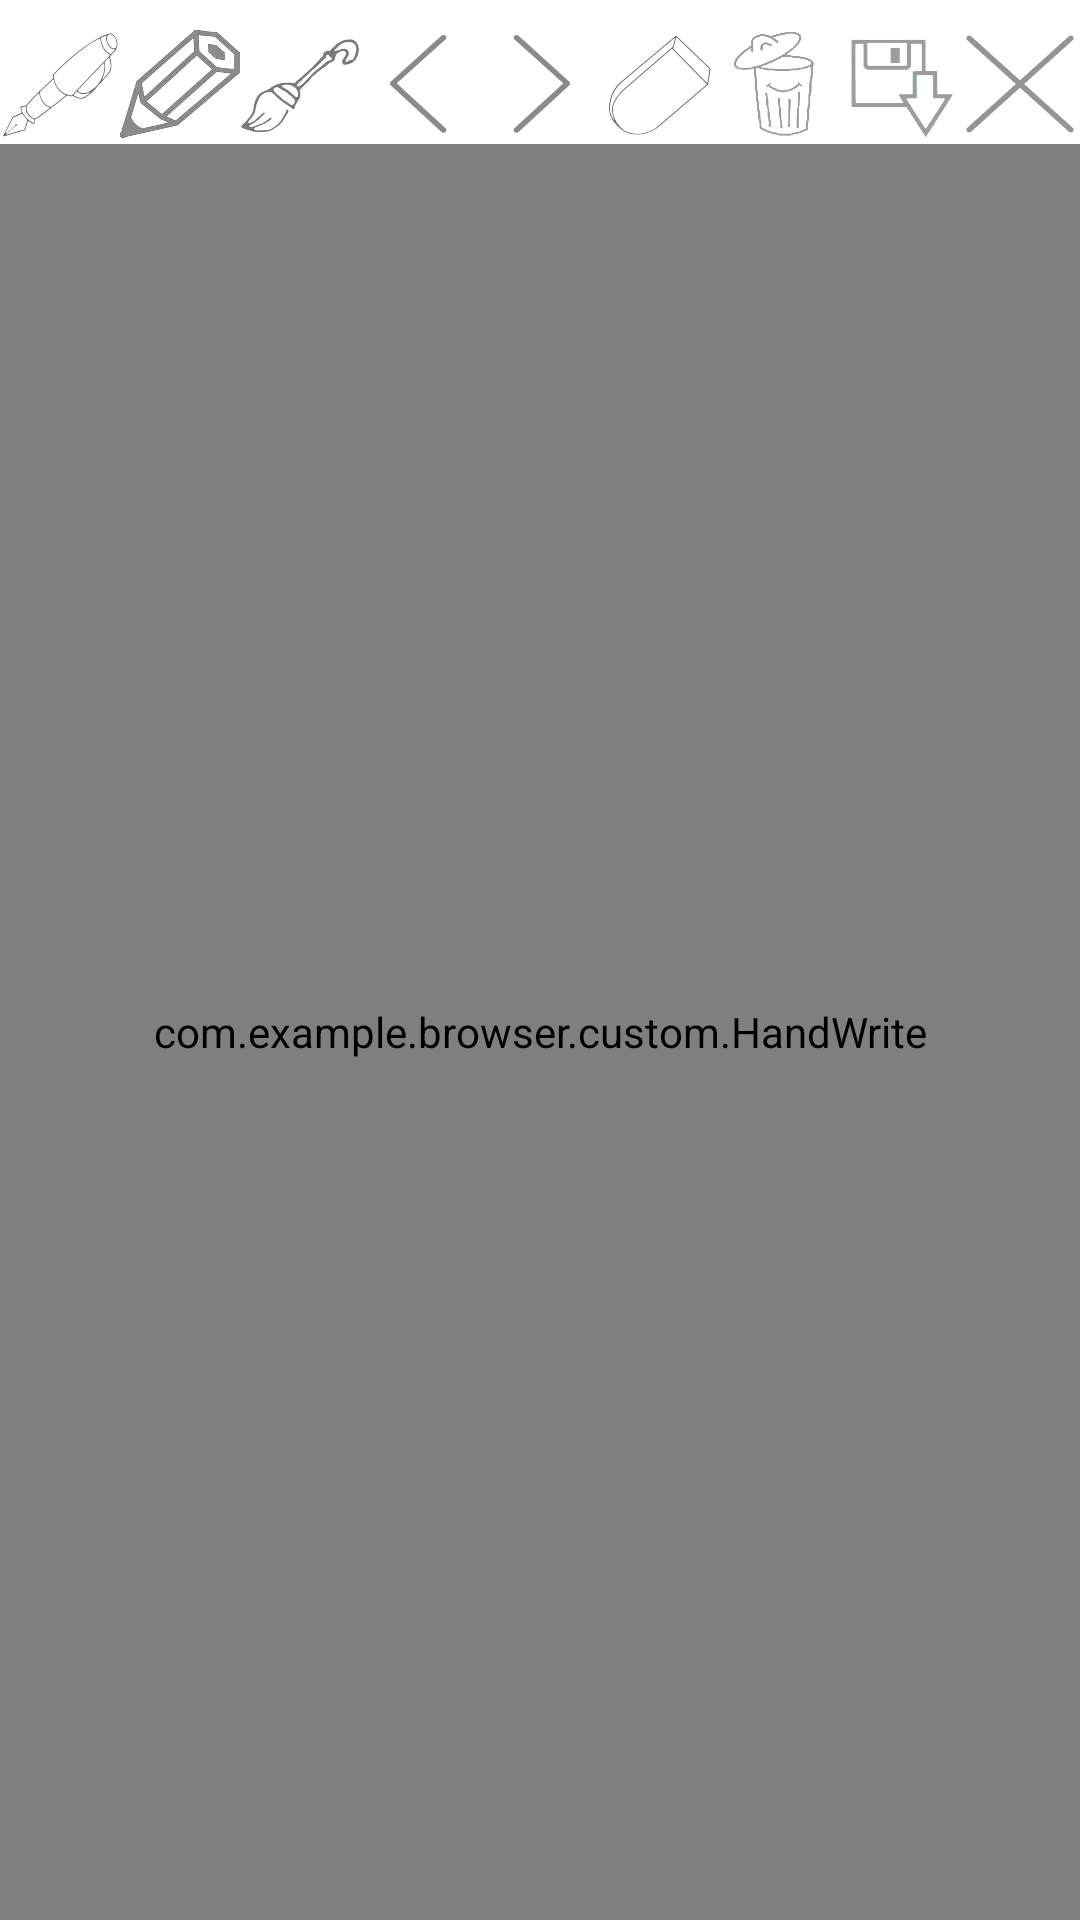

Screen size 1080px x 1920px. Icon name, then its center in pixels as (x=x, y=y):
clear: (x=774, y=84)
eraser: (x=660, y=85)
pen: (x=180, y=84), (x=60, y=85), (x=300, y=85)
quit: (x=1020, y=84)
save: (x=902, y=88)
